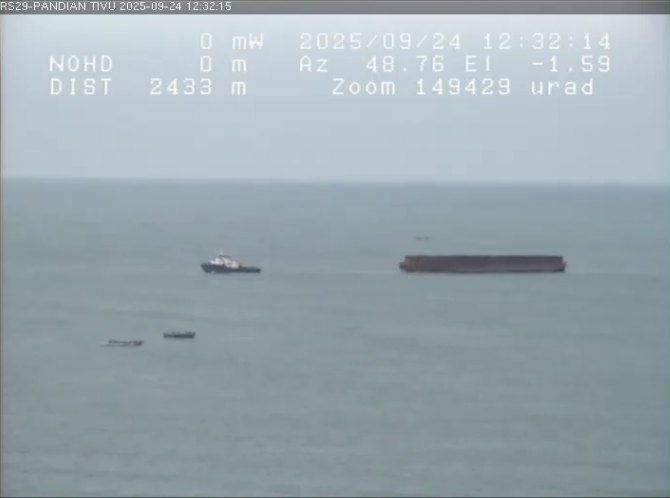BARGE: (361, 232, 581, 287)
FISHING_BOAT: (96, 332, 146, 357), (155, 326, 203, 349)
OFFSHORE_SUPPLY_VESSEL: (188, 240, 279, 283)
TOWING: (163, 210, 601, 299)
